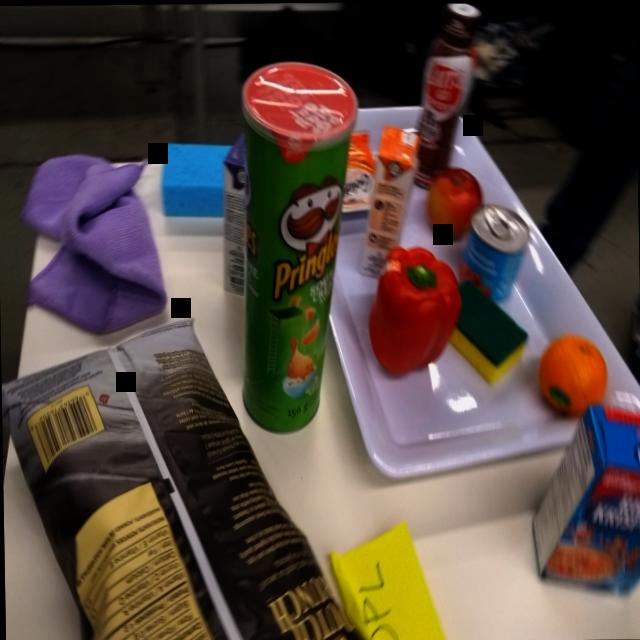apple: (426, 161, 483, 241)
cereal: (527, 398, 640, 597)
chocolate_drink: (409, 2, 484, 182)
cloth_opl: (30, 151, 172, 329)
orange: (538, 328, 606, 414)
orange_juice: (357, 125, 423, 276)
paprika: (369, 242, 460, 385)
potato_chips: (0, 315, 387, 640)
pringles: (240, 49, 364, 440)
sausages: (464, 201, 532, 300)
scrubby: (449, 280, 531, 381)
sponge_opl: (158, 137, 231, 219)
